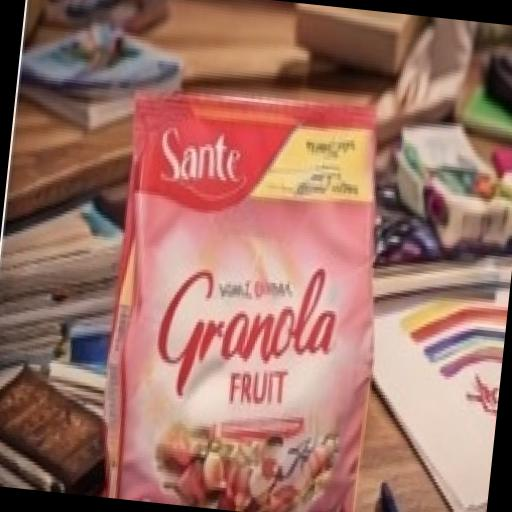granola: (59, 55, 418, 512)
